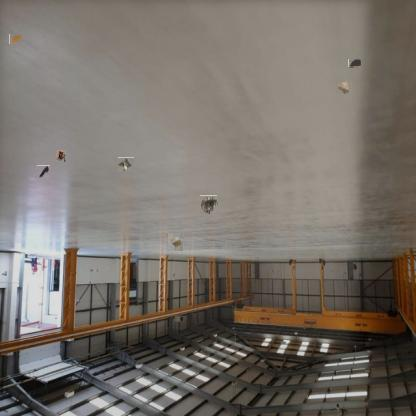dirty: (199, 196, 218, 214), (167, 233, 183, 251), (336, 78, 352, 94), (118, 157, 134, 172), (54, 148, 68, 164), (36, 165, 50, 178)
liquid: (9, 34, 22, 44), (348, 60, 361, 68)
